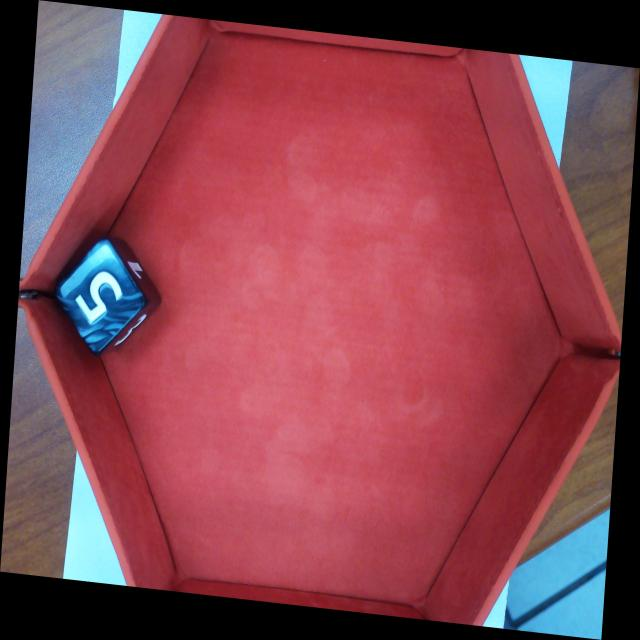dice: (59, 236, 147, 355)
